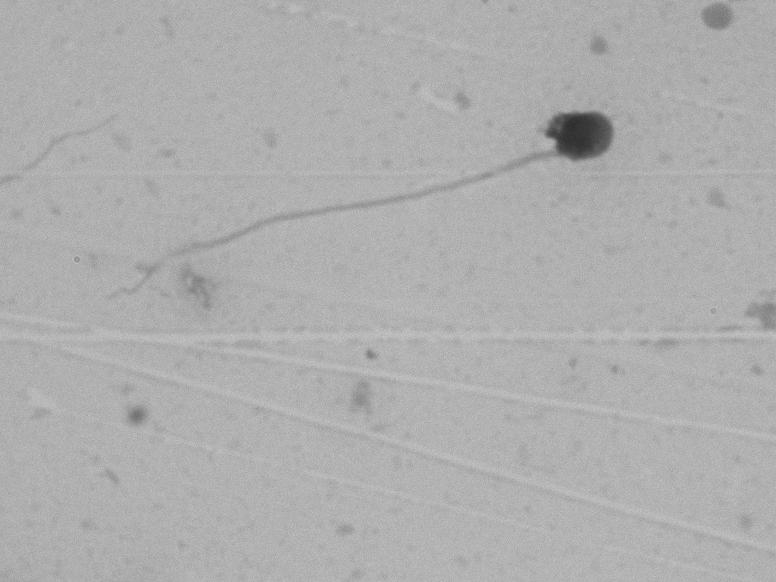Abnormal: (123, 92, 650, 272)
